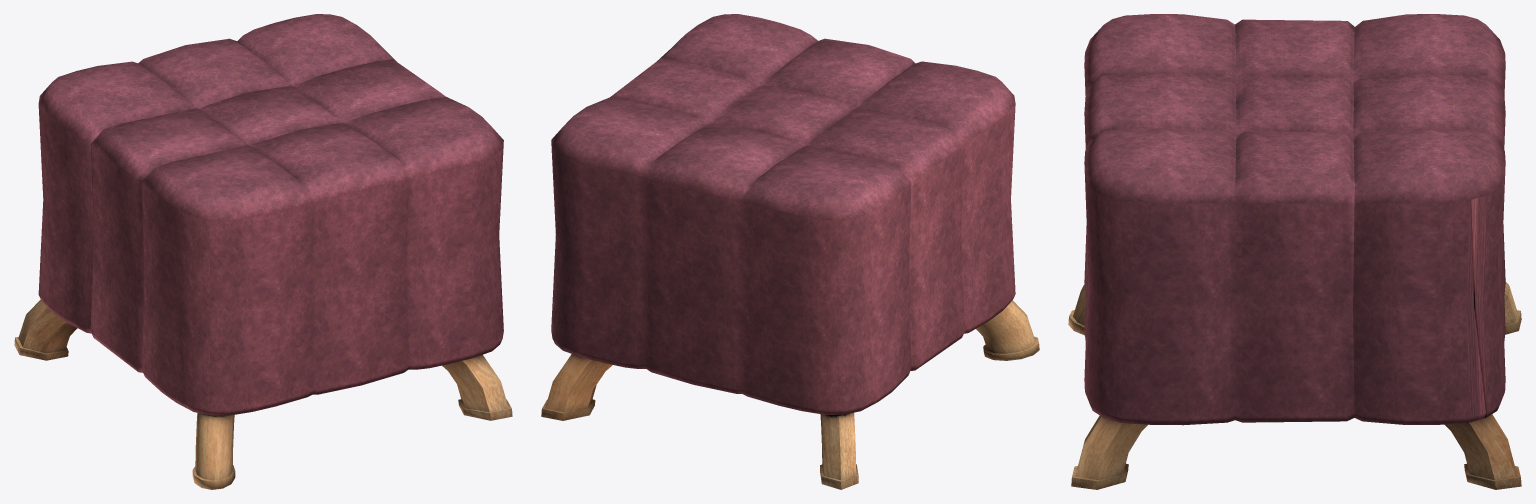
File: Declan Ottoman.FBX
3 renders of one model, left to right at view 1: azimuth 30°, elevation 25°; view 2: azimuth 150°, elevation 25°; view 3: azimuth 270°, elevation 25°, orthographic. The views are drawn at different scales.
Parts seen in each view (by area): view 1: Declan Ottoman; view 2: Declan Ottoman; view 3: Declan Ottoman.
Boxes of the visible parts, x1=… form: Declan Ottoman: x1=14, y1=14, x2=512, y2=489; Declan Ottoman: x1=541, y1=14, x2=1039, y2=489; Declan Ottoman: x1=1068, y1=14, x2=1521, y2=489.
Bounding box in the file's own units: 0.6568 × 0.5379 × 0.6993.
Materials: 1 (1 with a texture image).
